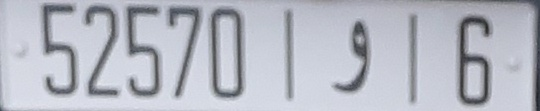0: (209, 7, 246, 101)
2: (84, 5, 122, 100)
5: (38, 2, 79, 97), (125, 0, 163, 99)
6: (456, 14, 492, 105)
7: (168, 6, 203, 100)
waw: (330, 17, 372, 94)
